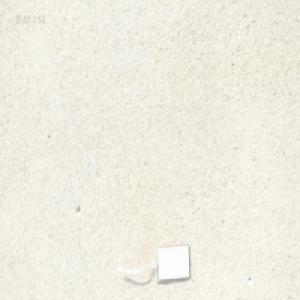LuggageTag: (111, 241, 188, 283)
